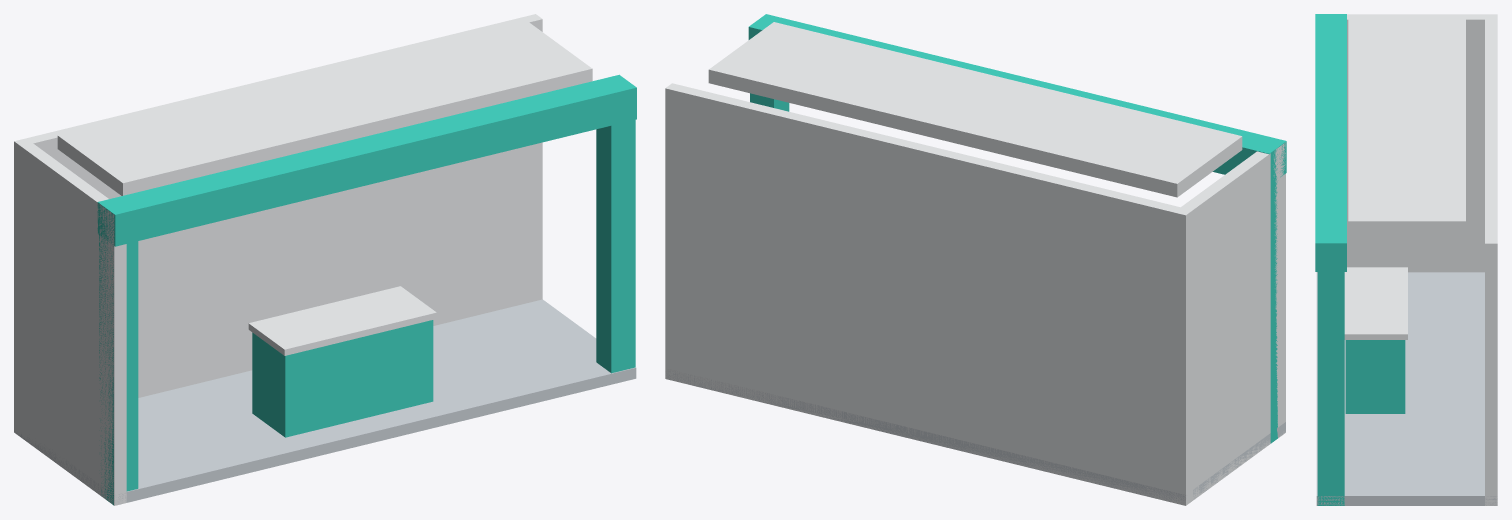
The picture shows the model from 3 angles, left to right: view 1: azimuth 30°, elevation 25°; view 2: azimuth 150°, elevation 25°; view 3: azimuth 270°, elevation 25°; orthographic projection. The views are drawn at different scales.
Visible parts, largest first — view 1: Exhibition Booth Concept; view 2: Exhibition Booth Concept; view 3: Exhibition Booth Concept.
Boxes of the visible parts, <box> form: Exhibition Booth Concept: <box>14,14,636,505</box>; Exhibition Booth Concept: <box>665,14,1286,505</box>; Exhibition Booth Concept: <box>1315,14,1497,505</box>.
Size of the model in its own units: 6 by 3.34 by 2.01.
